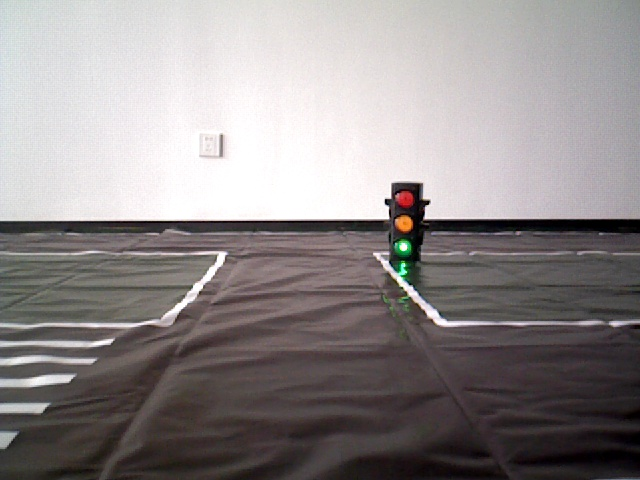green: (394, 190, 414, 257)
